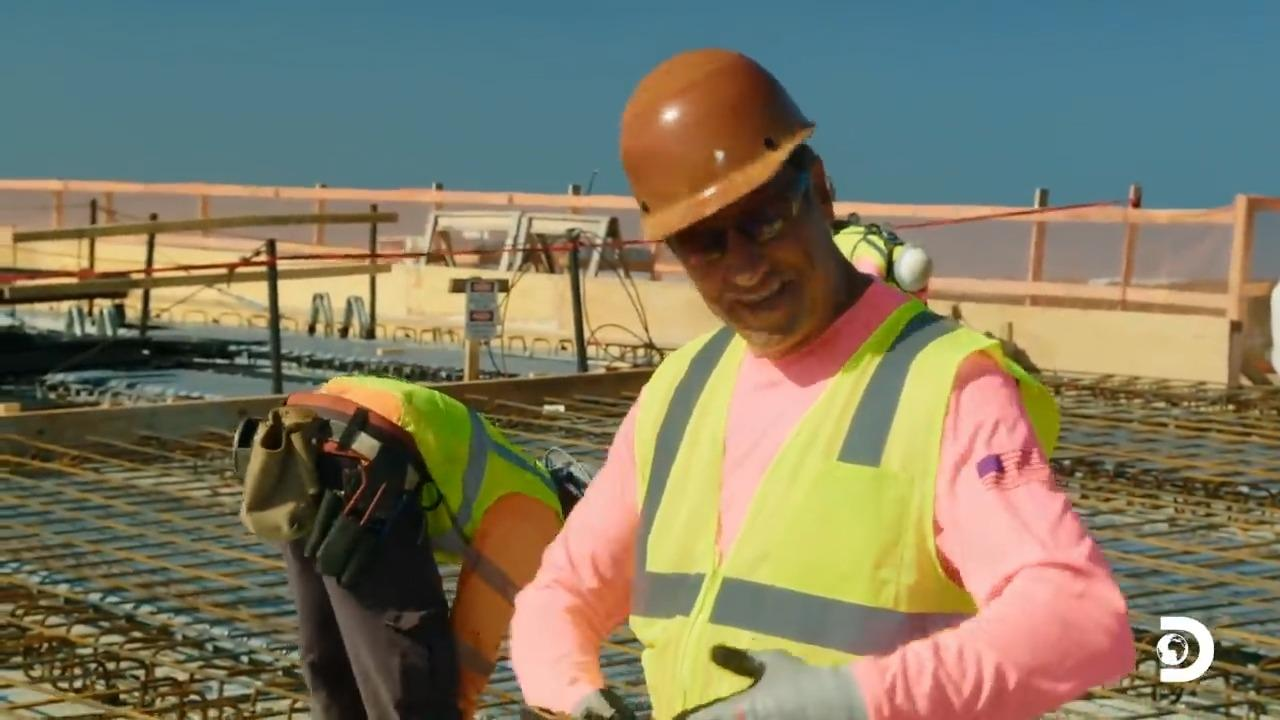Gloves: (684, 641, 856, 720)
Helmet: (619, 47, 816, 242), (885, 246, 937, 292)
Person: (506, 46, 1138, 719), (270, 373, 569, 719), (831, 210, 943, 308)
Safety Vest: (652, 336, 959, 704), (385, 409, 541, 542)
